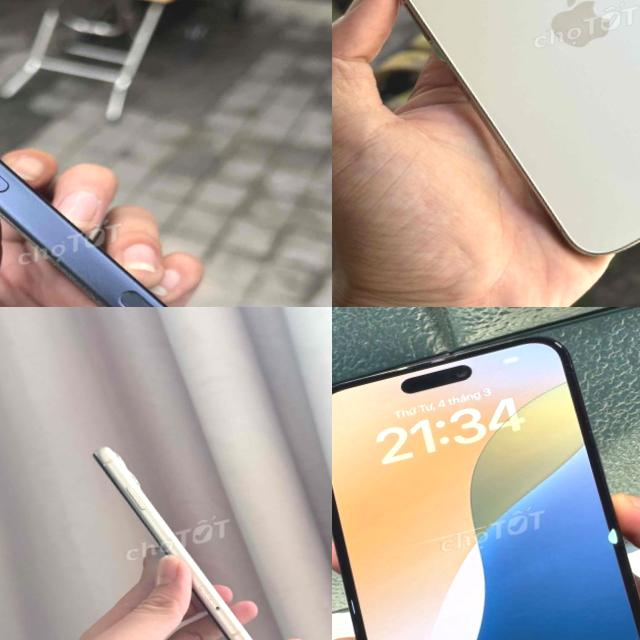gen_11: (94, 447, 252, 640)
gen_12_13: (332, 0, 640, 301)
gen_15: (332, 307, 640, 640)
gen_17: (0, 161, 166, 307)
